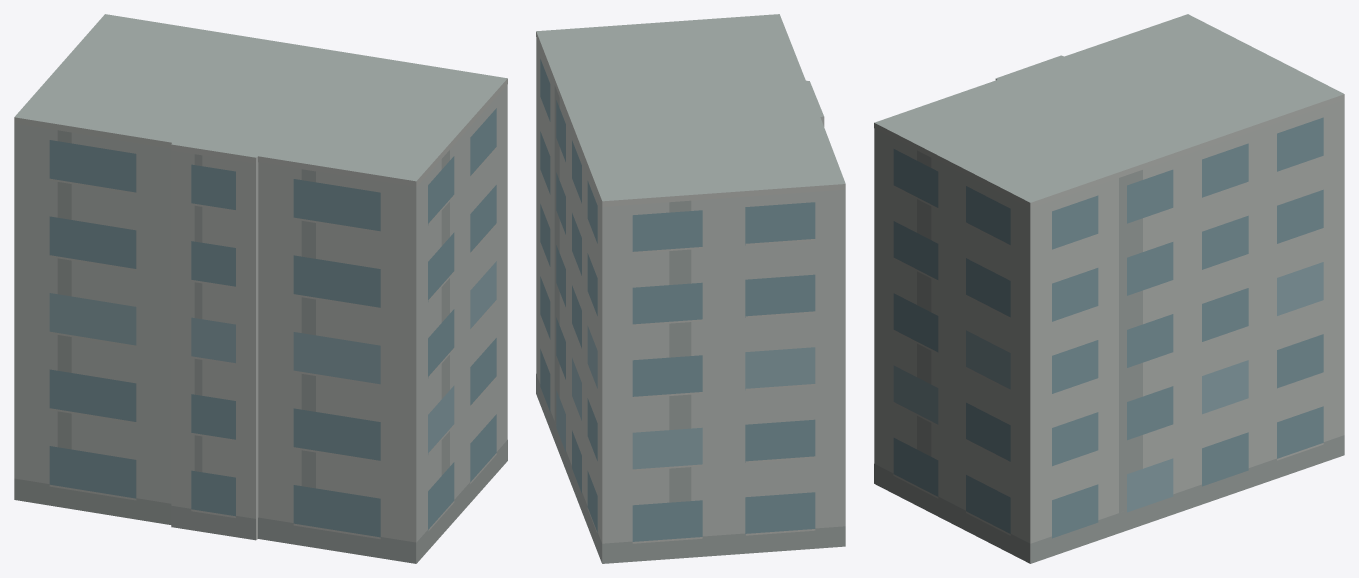
The model's file is survey-upis-32844028.glb.
3 views of the same model, side by side, from view 1: azimuth 30°, elevation 25°; view 2: azimuth 150°, elevation 25°; view 3: azimuth 270°, elevation 25° (orthographic). The views are drawn at different scales.
Visible parts, largest first — view 1: survey-upis-32844028.tmp; view 2: survey-upis-32844028.tmp; view 3: survey-upis-32844028.tmp.
Boxes of the visible parts, box(x1,y1,x2,y2) form: survey-upis-32844028.tmp: box(14, 14, 507, 563); survey-upis-32844028.tmp: box(536, 14, 845, 563); survey-upis-32844028.tmp: box(874, 14, 1344, 563).
Bounding box in the file's own units: 17.28 × 15.4 × 18.2.
